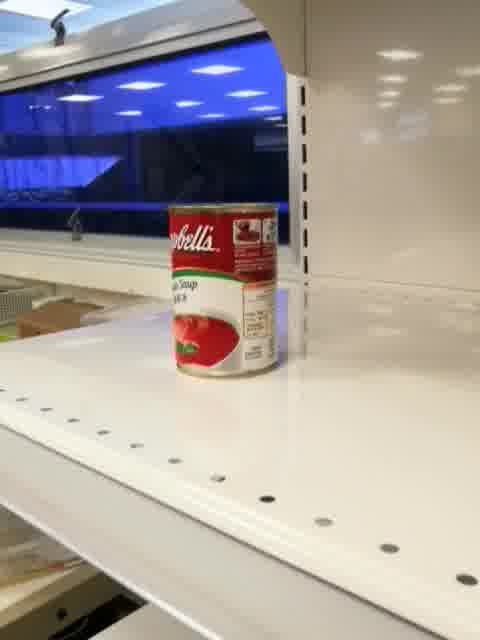tomatosoup: (166, 204, 281, 380)
